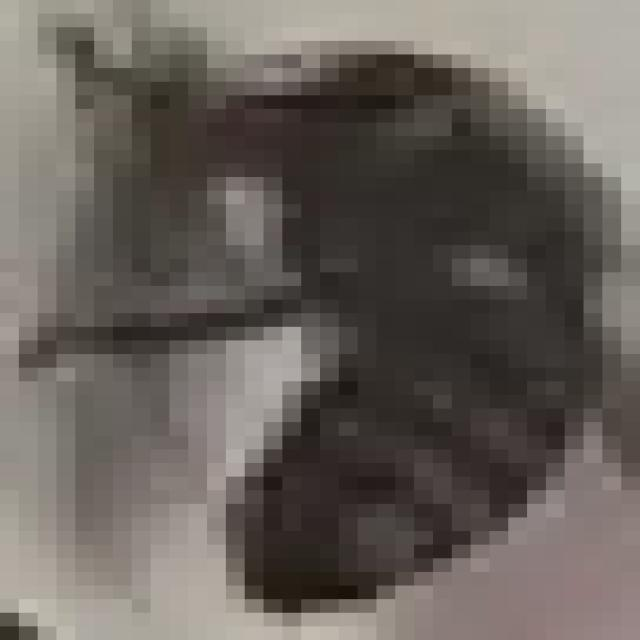honeybee: (98, 19, 640, 592)
